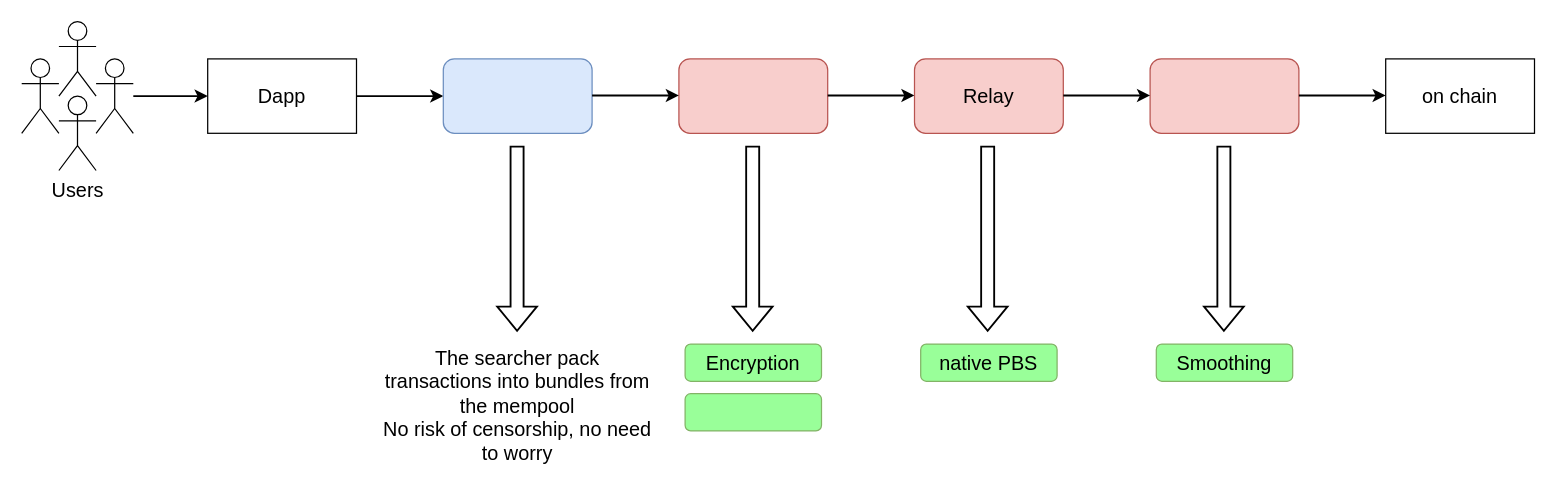
Image size: 1556x486. Some labels were removed from this diagram. Here are the shapes that lost their labels. From the top down, the centre of each, then its label:
At (517,95): "Searcher".
At (753,95): "Builder".
At (1224,95): "Proposer".
At (753,411): "Inclusion Lists".
